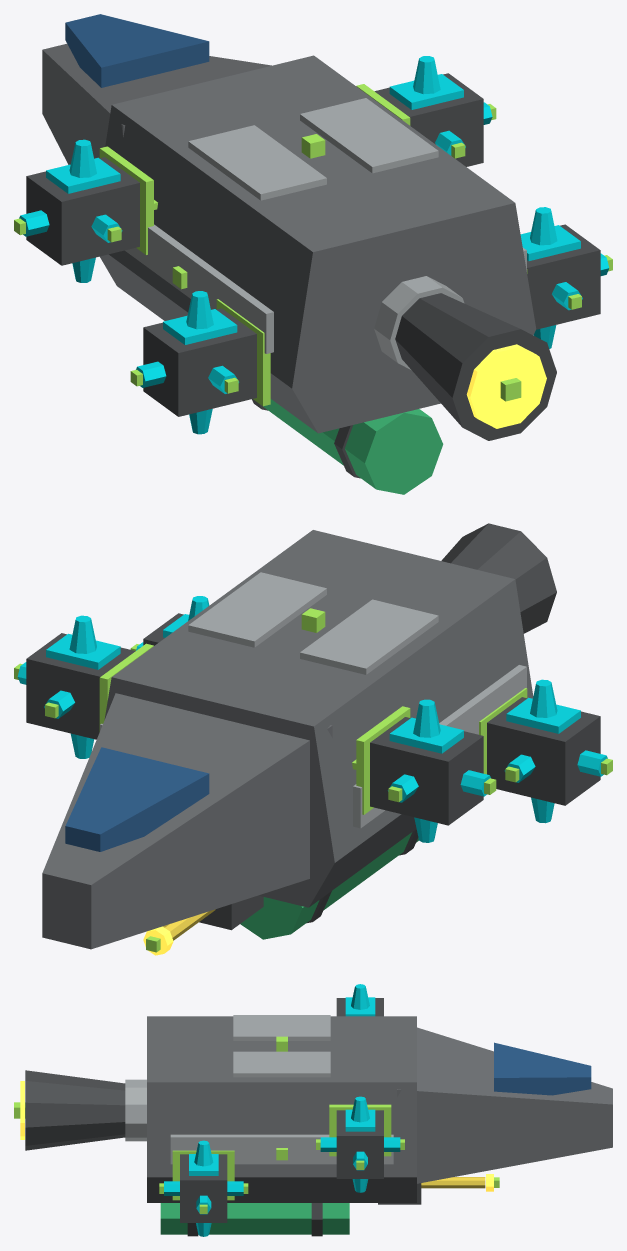
The model's file is demo_scout_mk1.glb.
The picture shows the model from 3 angles, top to bottom: view 1: azimuth 30°, elevation 25°; view 2: azimuth 150°, elevation 25°; view 3: azimuth 270°, elevation 25°; orthographic projection. The views are drawn at different scales.
Visible parts, largest first — view 1: DEMO_Scout_Mk1_GEO_Hull_Core_Faceted, DEMO_Scout_Mk1_GEO_MainEngine_Bell_DarkMetal, DEMO_Scout_Mk1_GEO_Cockpit_Wedge_Body, DEMO_Scout_Mk1_GEO_RCS_Pod_Body, DEMO_Scout_Mk1_GEO_RCS_Pod_Body.001, DEMO_Scout_Mk1_GEO_Fuel_Tank_Green_8Sided, DEMO_Scout_Mk1_GEO_Cockpit_Canopy_DarkBlue, DEMO_Scout_Mk1_GEO_Hull_Core_TopPanel_-0.32, DEMO_Scout_Mk1_GEO_Hull_Core_TopPanel_0.32, DEMO_Scout_Mk1_GEO_Hull_Core_Left_Rib, DEMO_Scout_Mk1_GEO_MainEngine_Orange_Core, DEMO_Scout_Mk1_GEO_RCS_Pod_Body.003 (+12 smaller); view 2: DEMO_Scout_Mk1_GEO_Hull_Core_Faceted, DEMO_Scout_Mk1_GEO_Cockpit_Wedge_Body, DEMO_Scout_Mk1_GEO_Cockpit_Canopy_DarkBlue, DEMO_Scout_Mk1_GEO_RCS_Pod_Body, DEMO_Scout_Mk1_GEO_RCS_Pod_Body.001, DEMO_Scout_Mk1_GEO_Hull_Core_TopPanel_-0.32, DEMO_Scout_Mk1_GEO_Hull_Core_TopPanel_0.32, DEMO_Scout_Mk1_GEO_MainEngine_Bell_DarkMetal, DEMO_Scout_Mk1_GEO_RCS_Pod_Body.002, DEMO_Scout_Mk1_GEO_Fuel_Tank_Green_8Sided, DEMO_Scout_Mk1_GEO_Hull_Core_Left_Rib, DEMO_Scout_Mk1_RCS_Hardpoint_Left_Front (+9 smaller); view 3: DEMO_Scout_Mk1_GEO_Hull_Core_Faceted, DEMO_Scout_Mk1_GEO_Cockpit_Wedge_Body, DEMO_Scout_Mk1_GEO_MainEngine_Bell_DarkMetal, DEMO_Scout_Mk1_GEO_Fuel_Tank_Green_8Sided, DEMO_Scout_Mk1_GEO_Cockpit_Canopy_DarkBlue, DEMO_Scout_Mk1_GEO_Hull_Core_Right_Rib, DEMO_Scout_Mk1_GEO_Hull_Core_TopPanel_0.32, DEMO_Scout_Mk1_GEO_Hull_Core_TopPanel_-0.32, DEMO_Scout_Mk1_GEO_RCS_Pod_Body.002, DEMO_Scout_Mk1_GEO_RCS_Pod_Body.003, DEMO_Scout_Mk1_GEO_MainEngine_Front_Collar, DEMO_Scout_Mk1_RCS_Hardpoint_Right_Front (+10 smaller).
Boxes of the visible parts, x1,y1,x2,y2 form: DEMO_Scout_Mk1_GEO_Hull_Core_Faceted: [100, 55, 536, 433]; DEMO_Scout_Mk1_GEO_MainEngine_Bell_DarkMetal: [395, 293, 556, 440]; DEMO_Scout_Mk1_GEO_Cockpit_Wedge_Body: [42, 43, 271, 164]; DEMO_Scout_Mk1_GEO_RCS_Pod_Body: [26, 157, 139, 265]; DEMO_Scout_Mk1_GEO_RCS_Pod_Body.001: [143, 308, 256, 416]; DEMO_Scout_Mk1_GEO_Fuel_Tank_Green_8Sided: [263, 399, 443, 494]; DEMO_Scout_Mk1_GEO_Cockpit_Canopy_DarkBlue: [65, 14, 209, 87]; DEMO_Scout_Mk1_GEO_Hull_Core_TopPanel_-0.32: [188, 125, 326, 200]; DEMO_Scout_Mk1_GEO_Hull_Core_TopPanel_0.32: [300, 98, 438, 173]; DEMO_Scout_Mk1_GEO_Hull_Core_Left_Rib: [125, 224, 273, 353]; DEMO_Scout_Mk1_GEO_MainEngine_Orange_Core: [466, 344, 546, 428]; DEMO_Scout_Mk1_GEO_RCS_Pod_Body.003: [527, 224, 600, 329]; DEMO_Scout_Mk1_GEO_Hull_Core_Faceted: [104, 530, 533, 907]; DEMO_Scout_Mk1_GEO_Cockpit_Wedge_Body: [42, 693, 332, 949]; DEMO_Scout_Mk1_GEO_Cockpit_Canopy_DarkBlue: [65, 747, 209, 851]; DEMO_Scout_Mk1_GEO_RCS_Pod_Body: [370, 717, 483, 825]; DEMO_Scout_Mk1_GEO_RCS_Pod_Body.001: [487, 697, 600, 805]; DEMO_Scout_Mk1_GEO_Hull_Core_TopPanel_-0.32: [300, 599, 438, 674]; DEMO_Scout_Mk1_GEO_Hull_Core_TopPanel_0.32: [188, 572, 326, 647]; DEMO_Scout_Mk1_GEO_MainEngine_Bell_DarkMetal: [441, 523, 556, 633]; DEMO_Scout_Mk1_GEO_RCS_Pod_Body.002: [26, 633, 135, 739]; DEMO_Scout_Mk1_GEO_Fuel_Tank_Green_8Sided: [240, 832, 418, 939]; DEMO_Scout_Mk1_GEO_Hull_Core_Left_Rib: [353, 665, 526, 828]; DEMO_Scout_Mk1_RCS_Hardpoint_Left_Front: [356, 706, 410, 814]; DEMO_Scout_Mk1_GEO_Hull_Core_Faceted: [147, 1016, 416, 1202]; DEMO_Scout_Mk1_GEO_Cockpit_Wedge_Body: [397, 1027, 612, 1183]; DEMO_Scout_Mk1_GEO_MainEngine_Bell_DarkMetal: [25, 1070, 125, 1150]; DEMO_Scout_Mk1_GEO_Fuel_Tank_Green_8Sided: [160, 1203, 349, 1234]; DEMO_Scout_Mk1_GEO_Cockpit_Canopy_DarkBlue: [494, 1042, 591, 1095]; DEMO_Scout_Mk1_GEO_Hull_Core_Right_Rib: [170, 1134, 393, 1164]; DEMO_Scout_Mk1_GEO_Hull_Core_TopPanel_0.32: [233, 1051, 330, 1077]; DEMO_Scout_Mk1_GEO_Hull_Core_TopPanel_-0.32: [233, 1015, 330, 1040]; DEMO_Scout_Mk1_GEO_RCS_Pod_Body.002: [336, 1110, 383, 1178]; DEMO_Scout_Mk1_GEO_RCS_Pod_Body.003: [180, 1154, 227, 1222]; DEMO_Scout_Mk1_GEO_MainEngine_Front_Collar: [125, 1079, 146, 1141]; DEMO_Scout_Mk1_RCS_Hardpoint_Right_Front: [329, 1104, 391, 1156].
Size of the model in its own units: 2.73 by 1.6 by 4.44.
